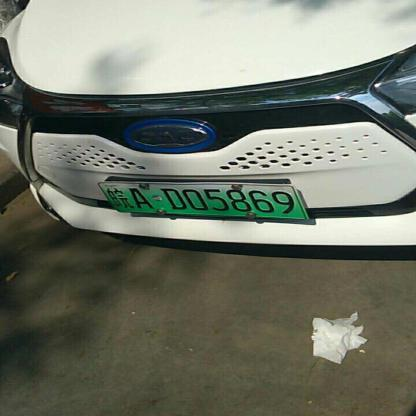lp: (98, 181, 306, 219)
